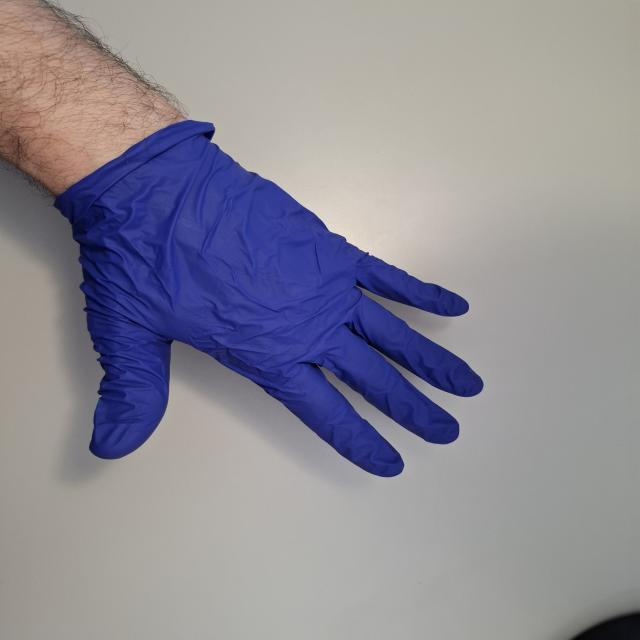glove_on: (54, 114, 488, 482)
